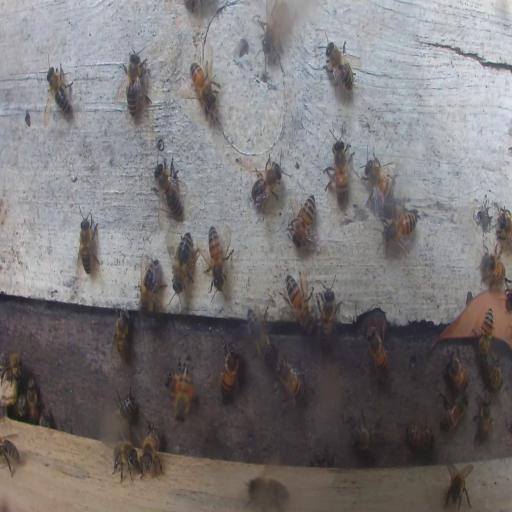nonpollenbee: (324, 126, 352, 204), (250, 158, 284, 214), (206, 223, 234, 290), (362, 155, 396, 210), (346, 409, 386, 455), (380, 204, 418, 252), (122, 48, 147, 120), (284, 271, 314, 331), (154, 156, 182, 220), (324, 40, 356, 94), (260, 1, 290, 57), (317, 276, 340, 348), (246, 306, 274, 364), (190, 57, 220, 111), (274, 356, 304, 409), (246, 470, 291, 504), (46, 64, 74, 116), (443, 462, 473, 510), (111, 439, 143, 484), (288, 195, 316, 246), (78, 207, 98, 275), (171, 230, 194, 287), (140, 257, 164, 311), (365, 324, 389, 374), (219, 343, 240, 397), (440, 394, 468, 432), (472, 394, 492, 444), (444, 352, 469, 392), (142, 423, 161, 474), (478, 248, 504, 285), (404, 424, 436, 452), (0, 435, 21, 475), (114, 309, 130, 361), (480, 304, 494, 360), (0, 353, 20, 387), (25, 377, 39, 422), (496, 208, 512, 247), (116, 391, 134, 422), (488, 354, 502, 390), (314, 449, 328, 467), (504, 280, 512, 310), (40, 406, 51, 426), (17, 394, 26, 416)
pollenbee: (172, 365, 195, 425)
